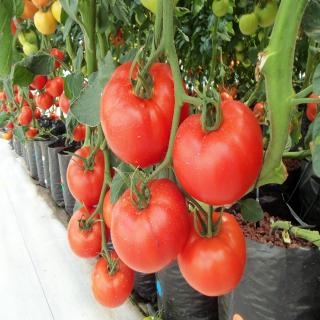Tomat: (172, 94, 267, 210), (99, 58, 193, 171), (110, 176, 192, 277), (178, 208, 250, 301), (67, 145, 113, 211), (91, 249, 137, 311), (68, 203, 114, 261)
